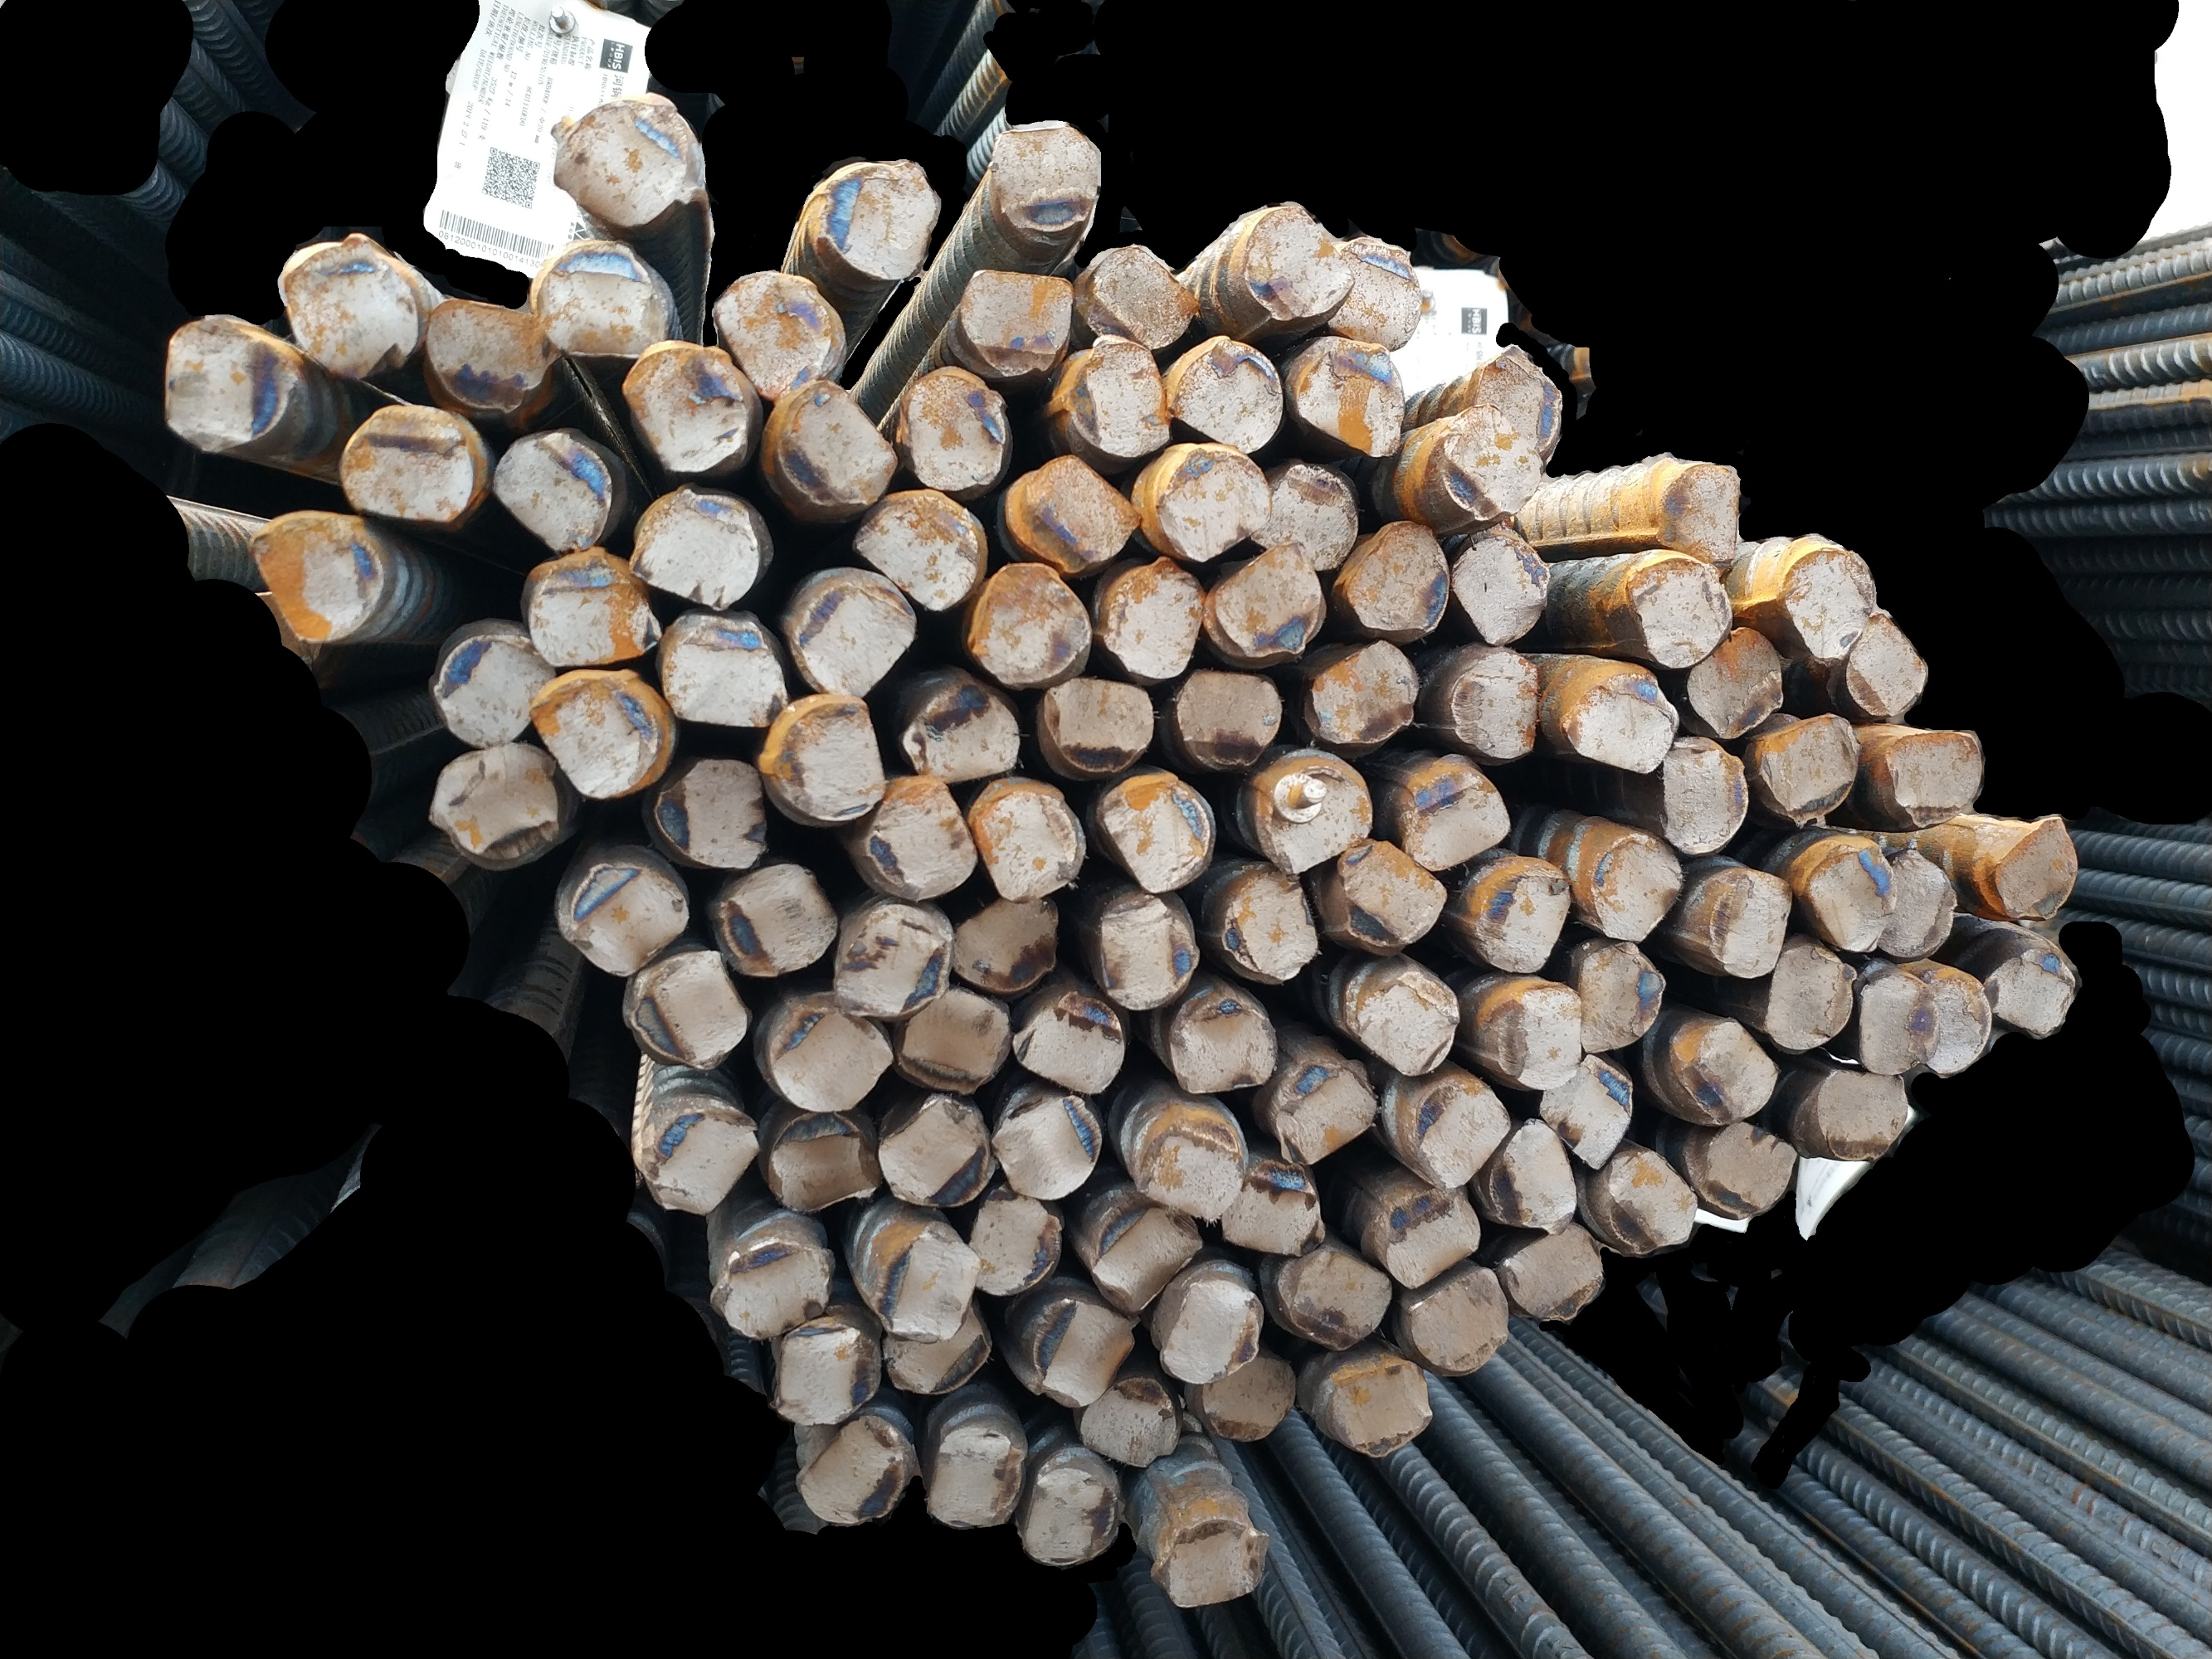rebar: (268, 234, 424, 385), (544, 94, 713, 230), (148, 314, 300, 455), (997, 446, 1149, 584), (329, 406, 488, 528), (249, 519, 399, 648), (523, 239, 676, 364), (619, 338, 753, 481), (525, 666, 661, 805), (770, 375, 903, 516), (417, 289, 561, 418), (750, 699, 896, 826), (427, 739, 565, 873), (774, 573, 919, 701), (845, 484, 985, 615), (624, 486, 765, 615), (962, 554, 1095, 688), (708, 267, 838, 403), (760, 990, 896, 1119), (490, 420, 617, 556), (523, 552, 666, 673), (708, 857, 844, 983), (1140, 443, 1274, 568), (654, 612, 795, 730), (816, 153, 941, 286), (985, 117, 1105, 254), (619, 946, 750, 1072), (431, 629, 565, 751), (560, 861, 694, 981), (1091, 884, 1208, 1019), (830, 892, 953, 1019), (1018, 1291, 1149, 1412), (1211, 530, 1328, 664), (1238, 199, 1360, 326), (859, 774, 978, 903), (1293, 333, 1410, 464), (898, 362, 1011, 497), (884, 986, 1018, 1100), (875, 1089, 997, 1213), (983, 1082, 1107, 1204), (1128, 1103, 1250, 1227), (1093, 772, 1213, 897), (1253, 756, 1379, 877), (638, 1100, 765, 1218), (1769, 535, 1886, 664), (1325, 835, 1455, 950), (1082, 1201, 1208, 1319), (1558, 657, 1684, 775), (1170, 329, 1286, 457), (1056, 333, 1173, 458), (1100, 558, 1213, 687), (1339, 516, 1457, 638), (1435, 396, 1548, 523), (1872, 716, 1992, 835), (1618, 552, 1736, 673), (1668, 1009, 1785, 1131), (652, 760, 777, 873), (971, 786, 1089, 904), (1752, 708, 1865, 831), (899, 681, 1025, 793), (1075, 242, 1201, 354), (765, 1317, 891, 1429), (790, 1415, 915, 1527), (1250, 451, 1361, 577), (1271, 1244, 1398, 1354), (959, 265, 1077, 382), (1300, 631, 1421, 746), (1677, 619, 1788, 742), (1403, 753, 1517, 873), (1037, 673, 1161, 782), (1011, 985, 1128, 1100), (1591, 1138, 1701, 1260), (1323, 228, 1426, 357), (763, 1105, 882, 1216), (948, 890, 1070, 999), (1473, 331, 1569, 467), (1346, 967, 1462, 1079), (873, 1223, 983, 1342), (1536, 1047, 1639, 1173), (1482, 1112, 1583, 1239), (1173, 659, 1285, 774), (1156, 1272, 1265, 1389), (1218, 866, 1327, 985), (1410, 1072, 1517, 1192), (708, 1244, 838, 1342), (1150, 1507, 1272, 1612), (1452, 523, 1555, 647), (1396, 1267, 1513, 1373), (1164, 995, 1283, 1100), (1264, 1066, 1382, 1171), (926, 1415, 1028, 1535), (1572, 934, 1670, 1060), (1755, 939, 1862, 1054), (960, 1183, 1063, 1302), (1365, 1194, 1487, 1293), (1588, 824, 1687, 945), (1654, 730, 1750, 854), (1450, 643, 1546, 765), (1797, 843, 1900, 957), (1018, 1462, 1121, 1574), (1487, 979, 1588, 1093), (1841, 606, 1933, 730), (1698, 1115, 1802, 1222), (1504, 1220, 1607, 1328), (1475, 863, 1574, 974), (1851, 964, 1944, 1082), (1985, 812, 2085, 922), (1074, 1375, 1185, 1473), (1321, 1364, 1435, 1460), (1651, 455, 1747, 568), (1213, 1168, 1328, 1262), (1705, 864, 1795, 983), (1811, 1056, 1910, 1164), (882, 1302, 994, 1398), (1196, 1349, 1300, 1448), (1985, 938, 2085, 1042), (1910, 964, 1996, 1084), (1876, 840, 1959, 962)
